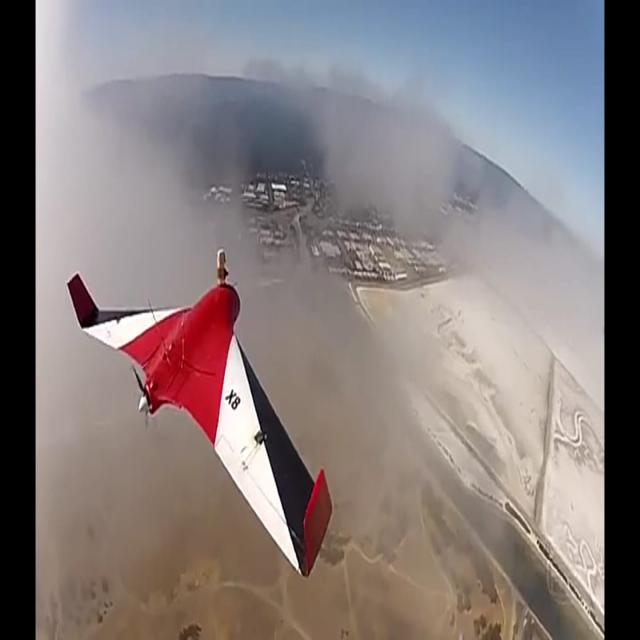iha: (58, 247, 327, 586)
